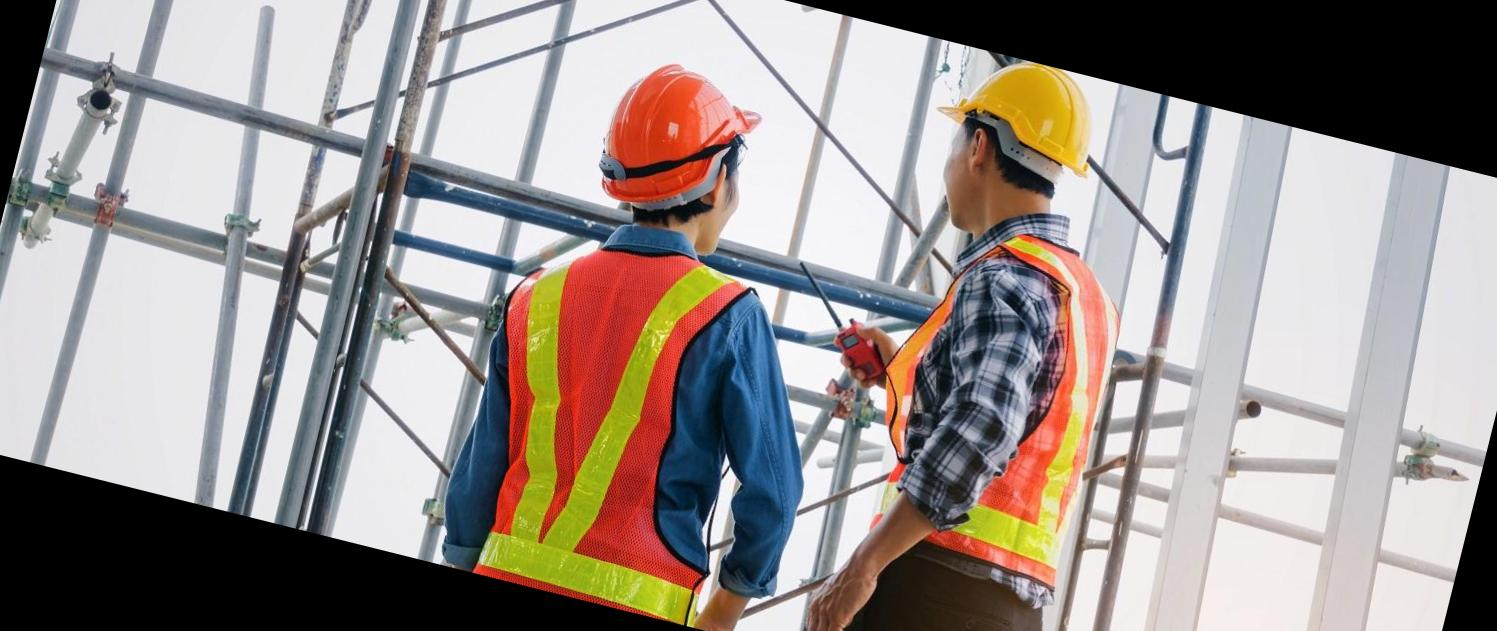Vest: (449, 223, 838, 631), (834, 204, 1168, 614)
